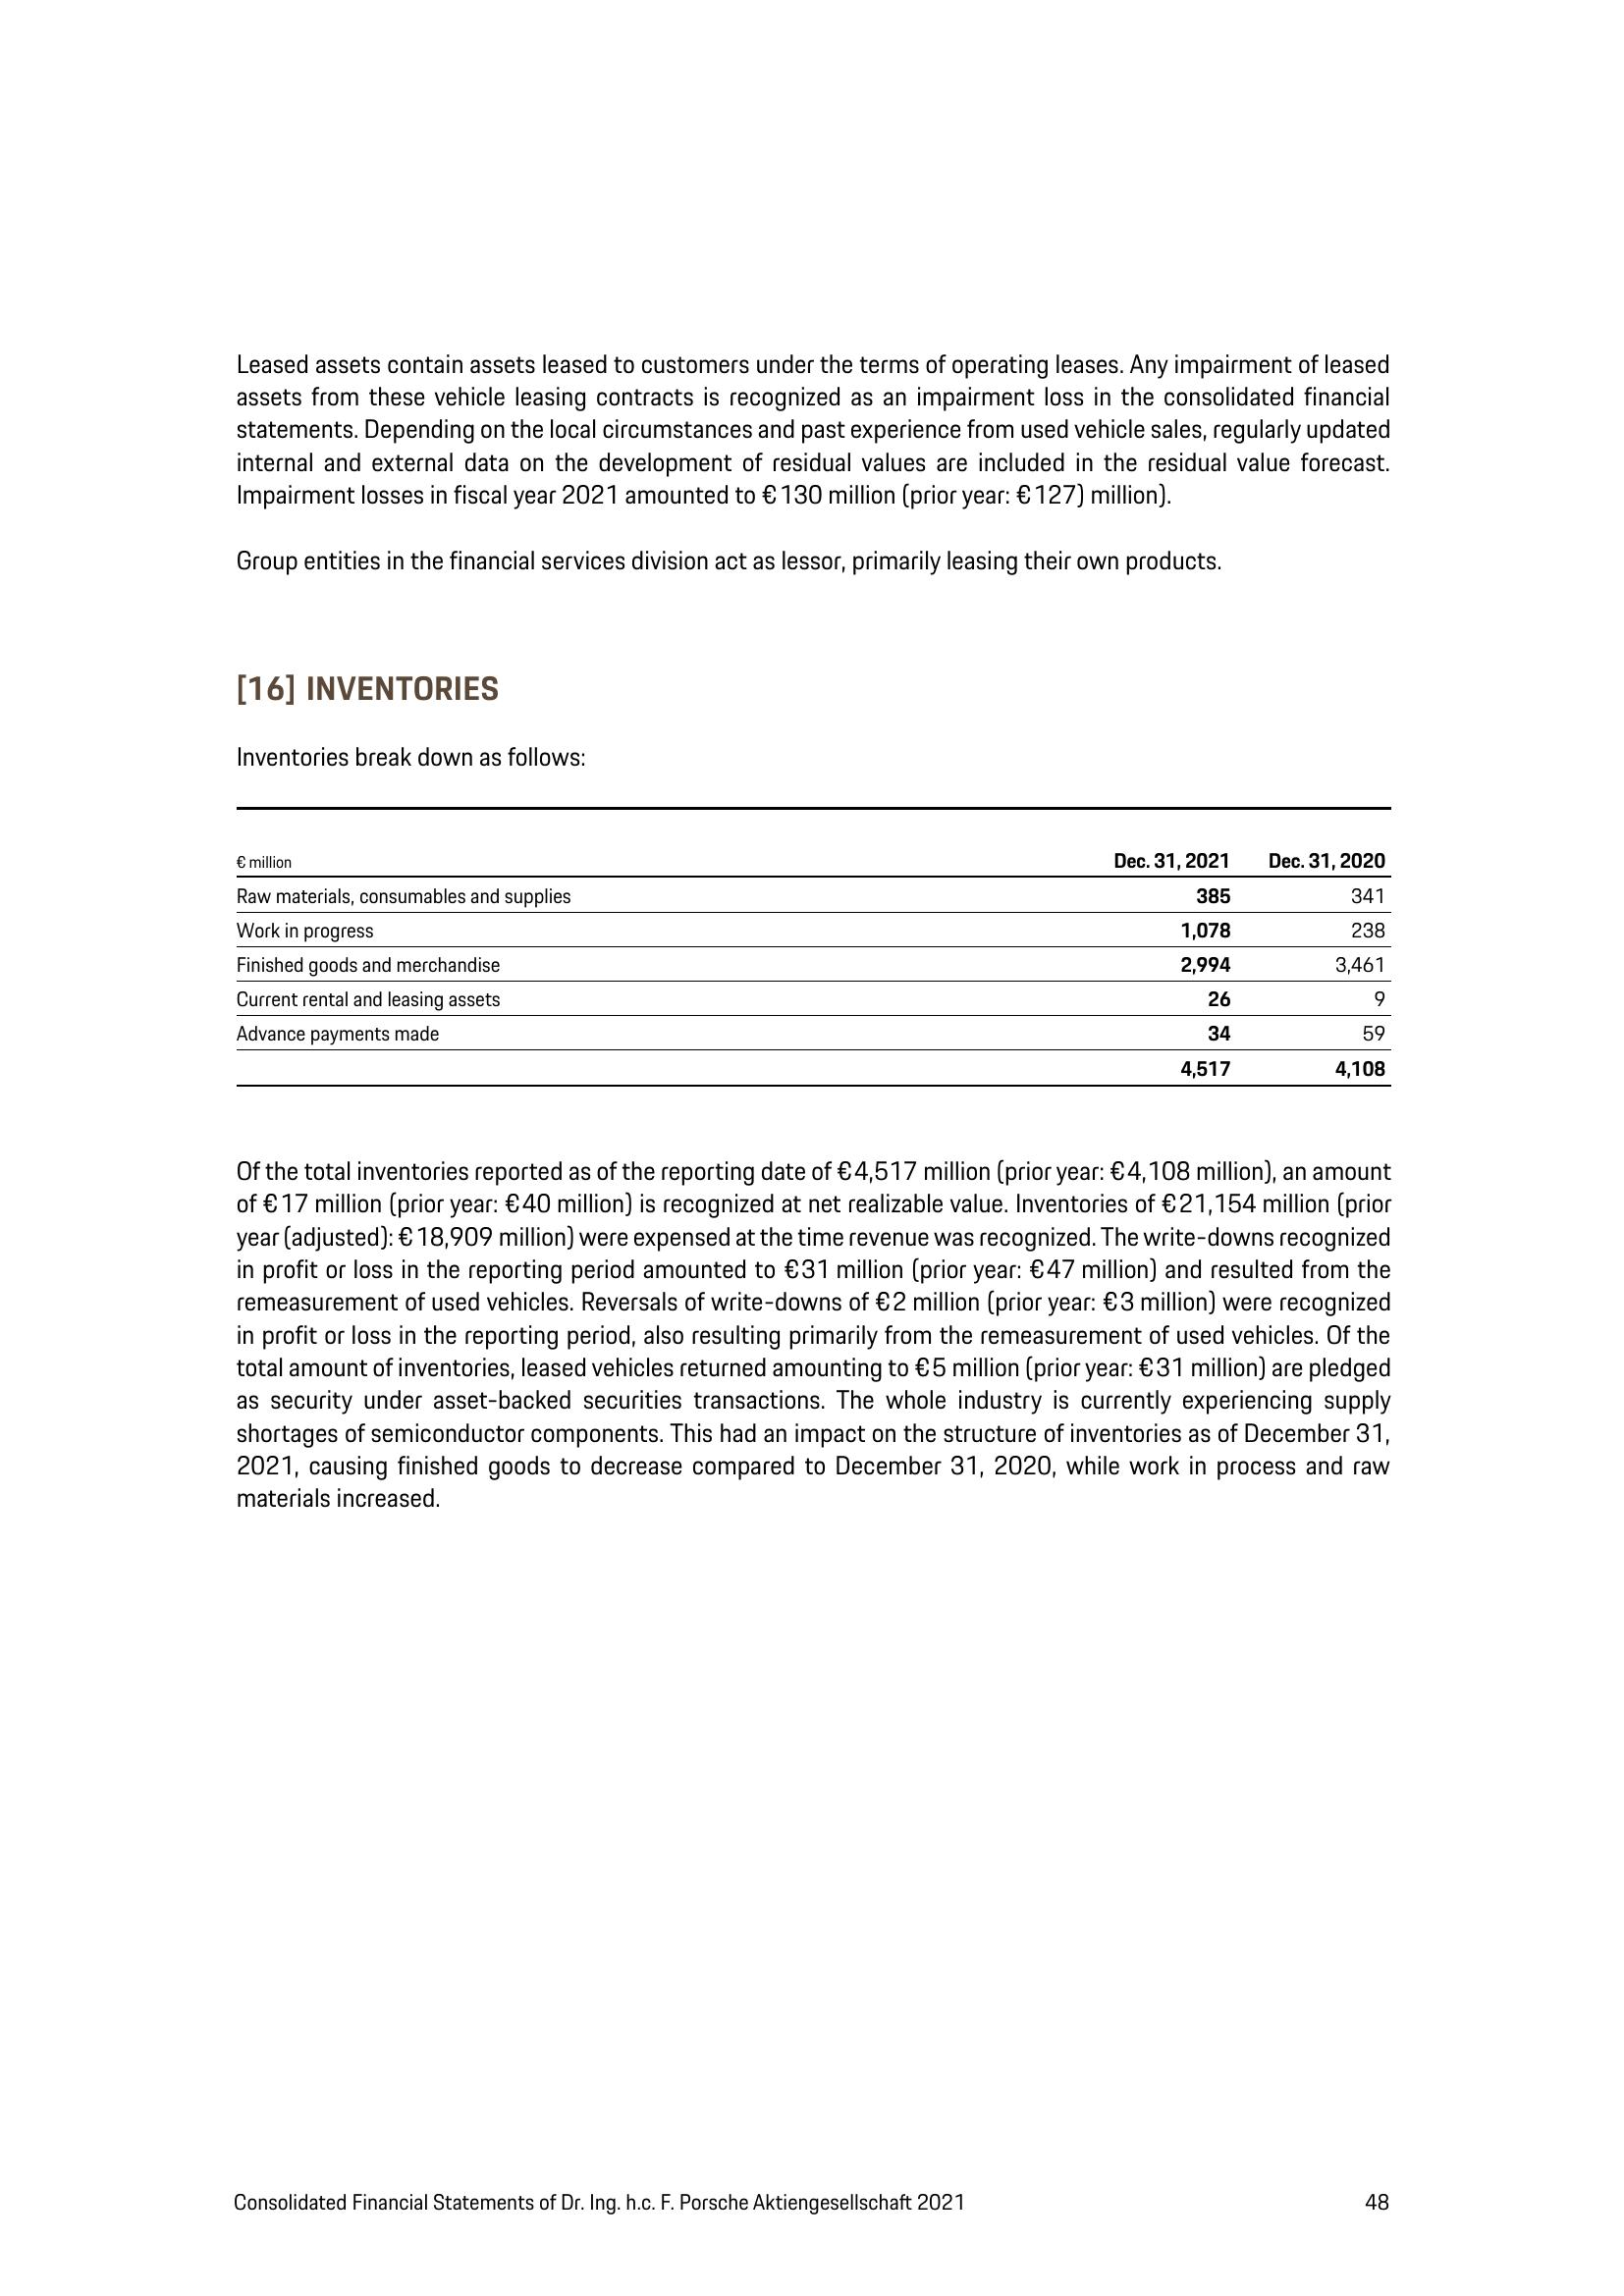Footer: (0, 2140, 1624, 2296)
Header: (0, 0, 1624, 174)
Table: (221, 798, 1399, 1082)
